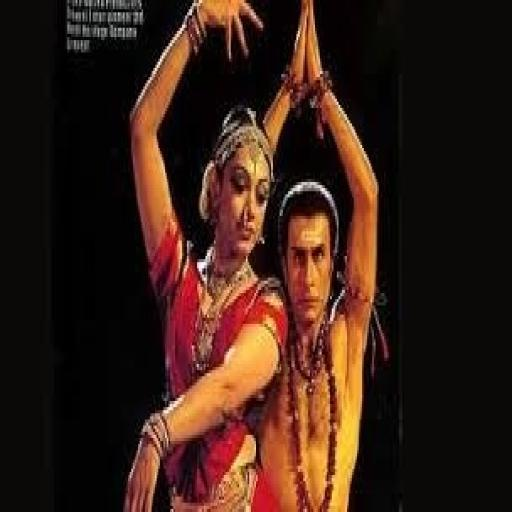dancing: (121, 0, 312, 509), (251, 0, 382, 509)
